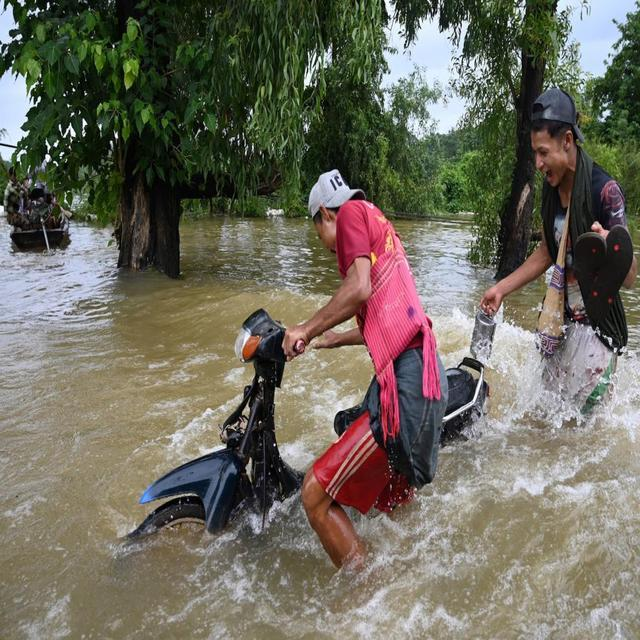Person-RiskLevel2: (282, 156, 456, 581), (478, 71, 632, 447)
